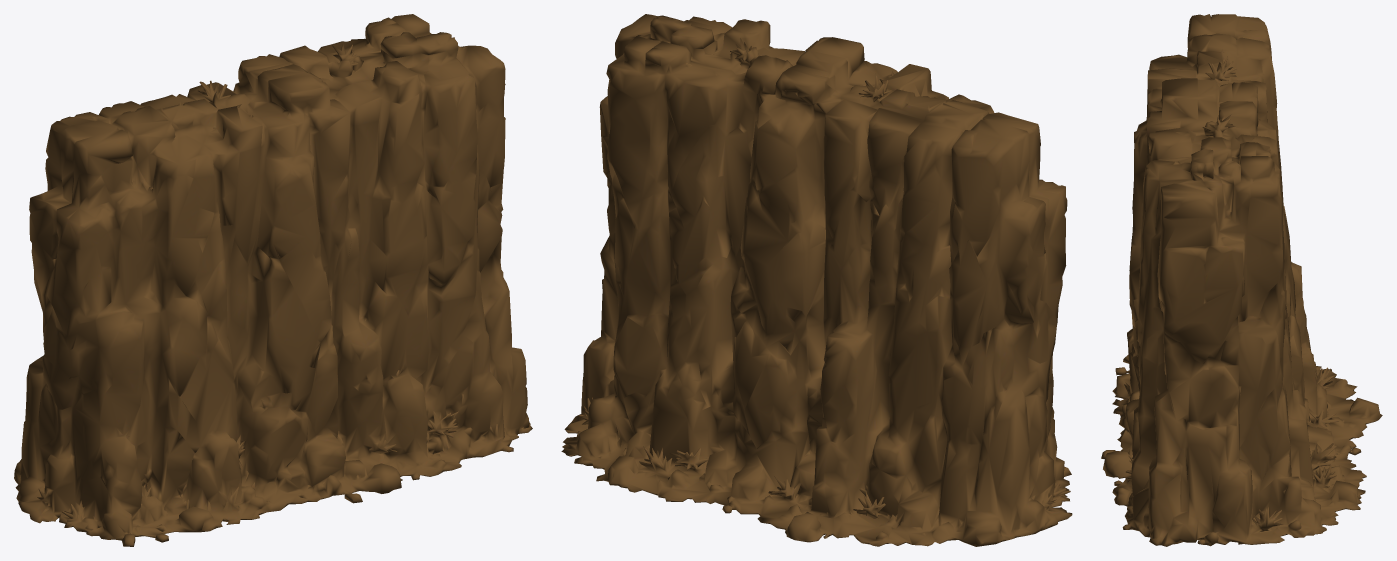
Rendered from columnas_de_basalto.glb.
The picture shows the model from 3 angles, left to right: view 1: azimuth 30°, elevation 25°; view 2: azimuth 150°, elevation 25°; view 3: azimuth 270°, elevation 25°; orthographic projection. The views are drawn at different scales.
Parts seen in each view (by area): view 1: columnas_de_basalto; view 2: columnas_de_basalto; view 3: columnas_de_basalto.
Boxes of the visible parts, x1=… form: columnas_de_basalto: x1=14, y1=14, x2=532, y2=546; columnas_de_basalto: x1=561, y1=14, x2=1072, y2=546; columnas_de_basalto: x1=1101, y1=14, x2=1382, y2=546.
Size of what is drawn, in the model's own units: 5.58 by 4.5 by 3.13.
1 material, 1 textured.
